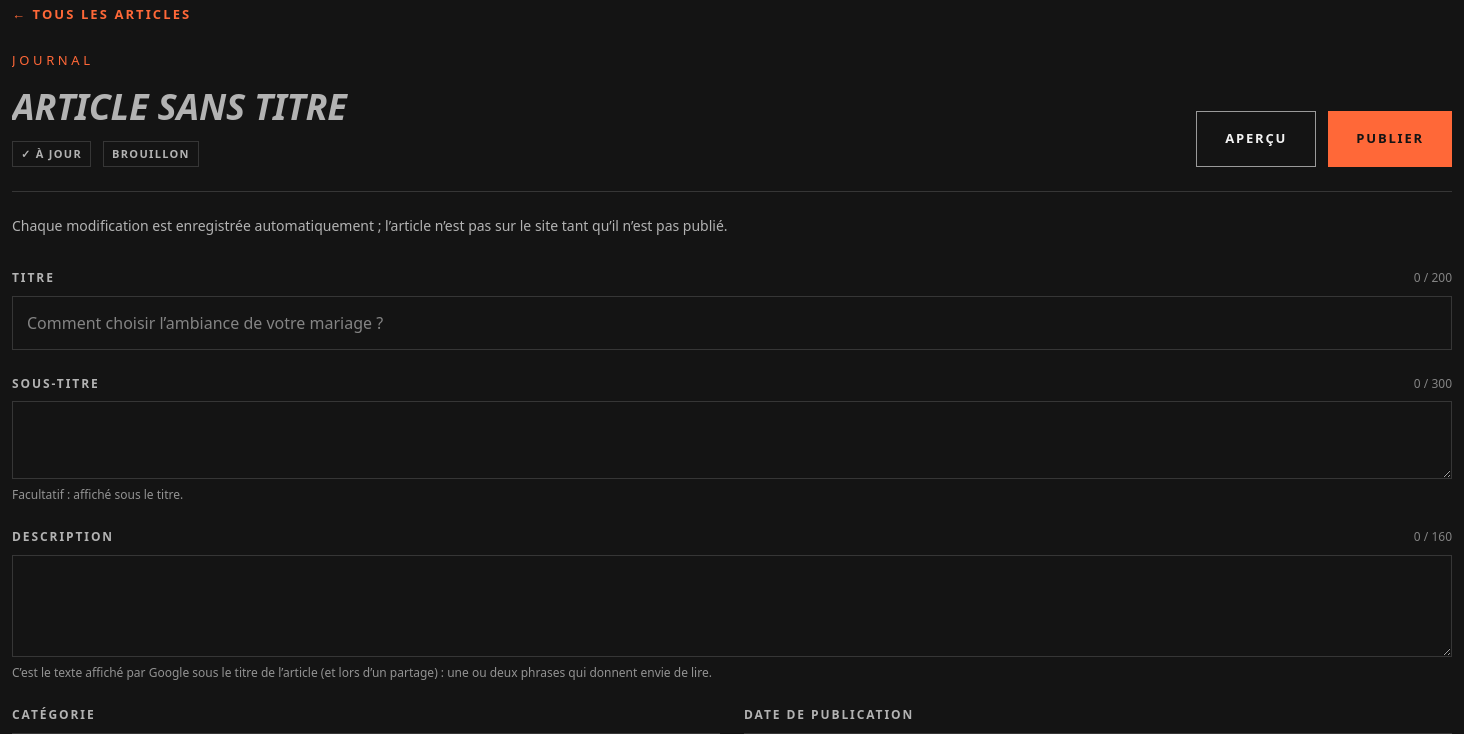
Scenario: EditeurArticle — enregistrement automatique › une erreur du serveur s’affiche sous le champ et la pill devient « réessayer »
Step 1. Type "x" into the text box labelled "Description" → (732, 606), box [12,555,1452,657]
Wait 900 ms
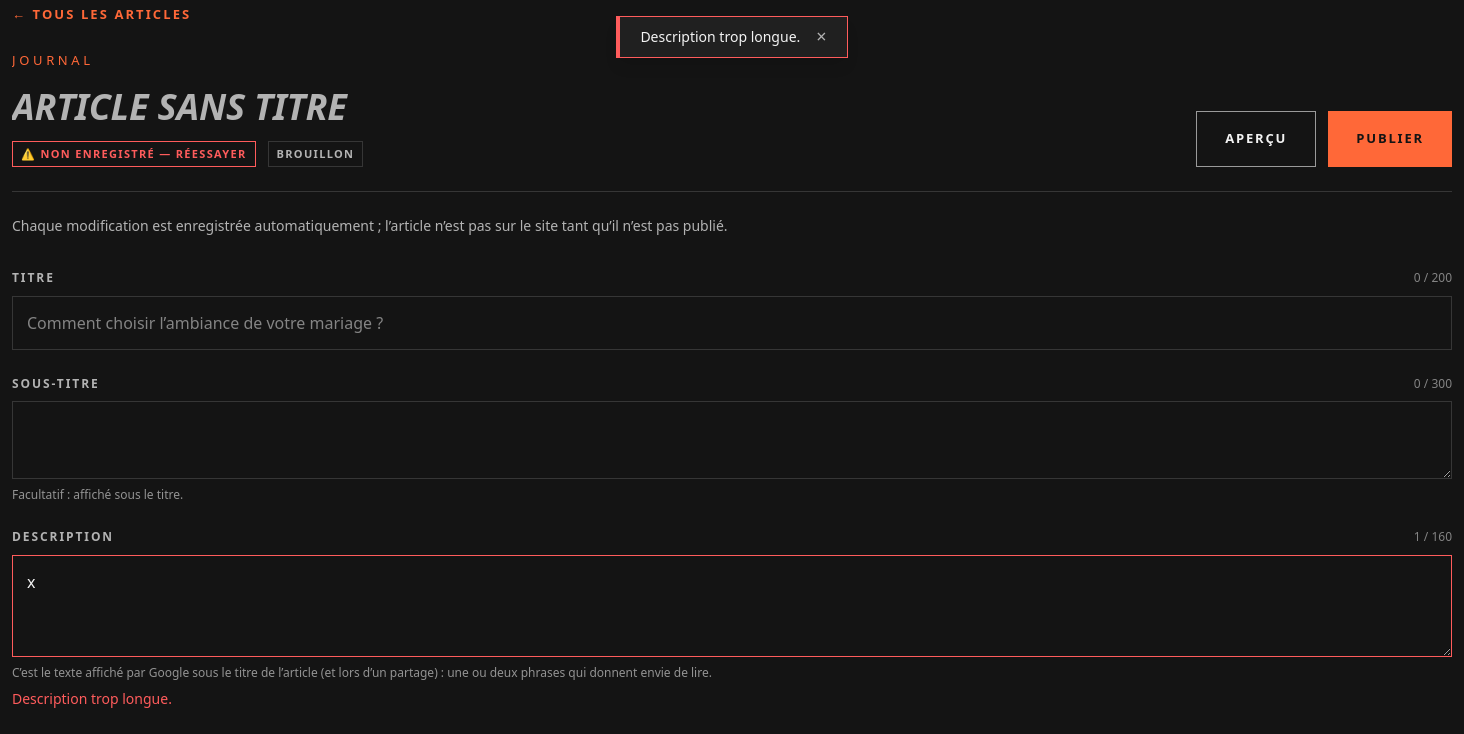
expect the button "⚠ Non enregistré — réessayer" is shown: met, box [12,141,256,167]
expect the text "Description trop longue." below "160" is shown: met, box [12,689,172,708]
